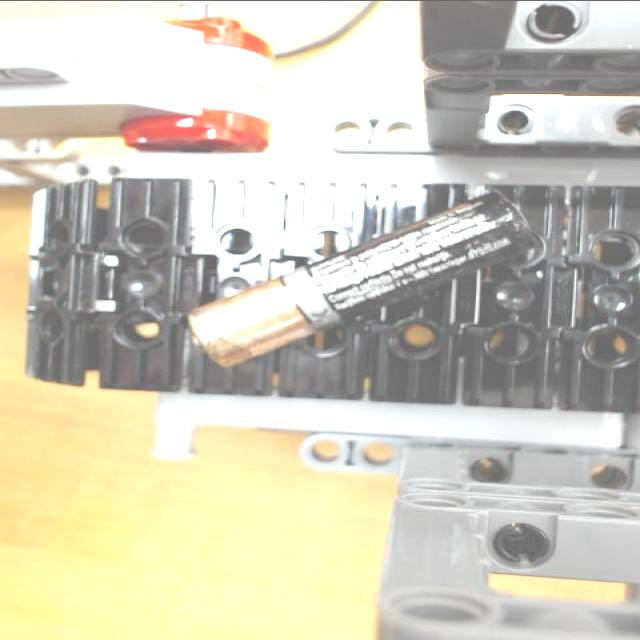AAA: (186, 185, 542, 372)
